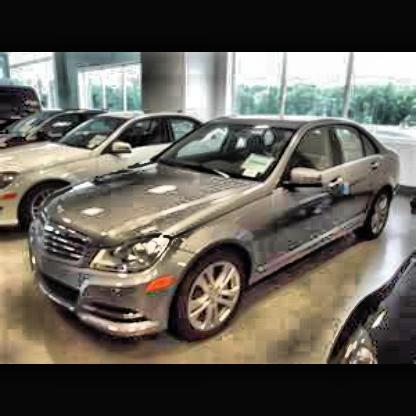Mercedes-Benz C-Class Sedan 2012: (29, 118, 404, 346)
